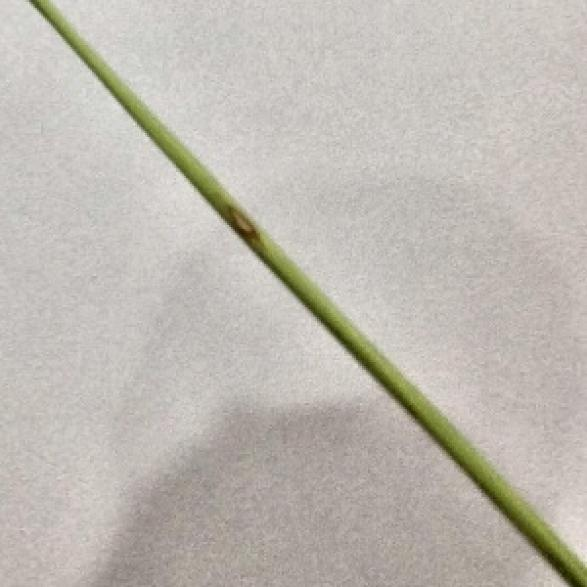Leaf_smut: (213, 194, 276, 252)
